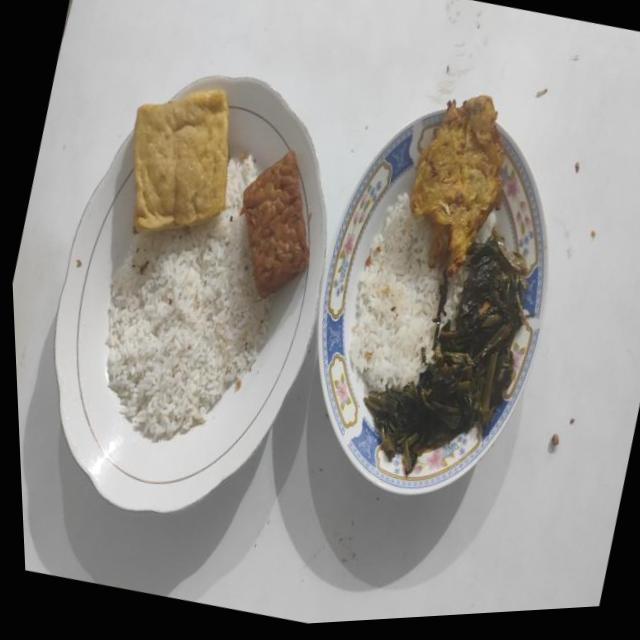nasi_putih: (106, 154, 272, 442), (349, 192, 443, 390)
tahu_goreng: (133, 90, 228, 232)
tempe_goreng: (241, 150, 309, 297)
tumis_kangkung: (364, 237, 528, 474)
